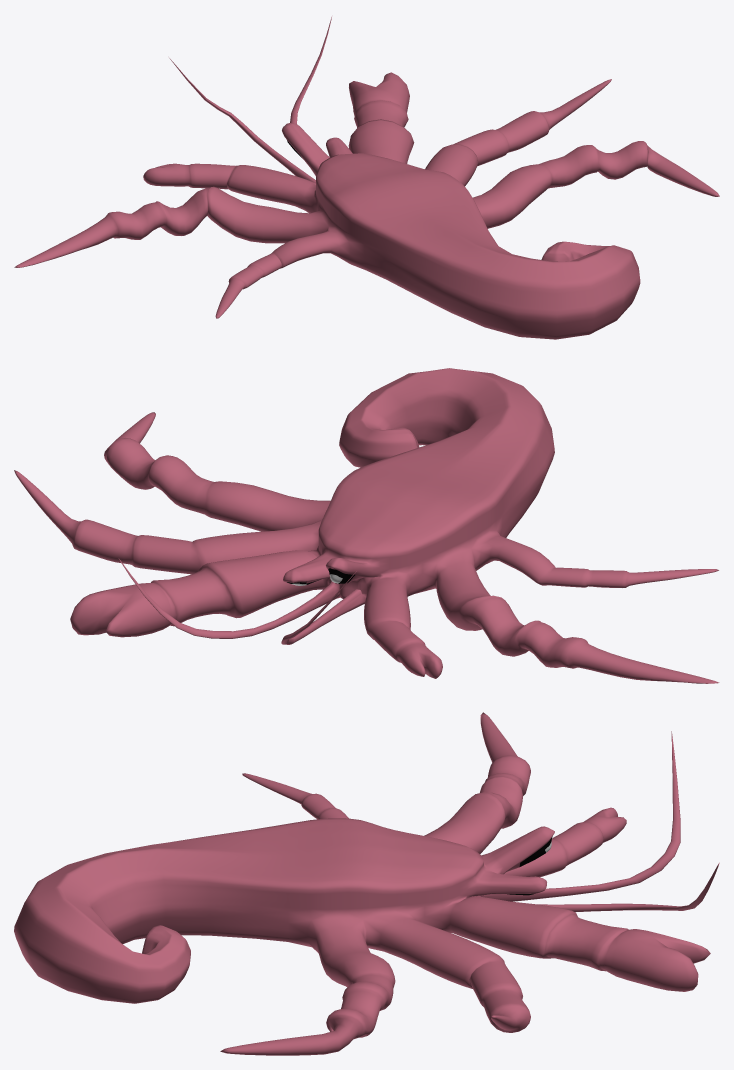
Rendered from bernardSansCoquilles.fbx.
3 views of the same model, one above another, from view 1: azimuth 30°, elevation 25°; view 2: azimuth 150°, elevation 25°; view 3: azimuth 270°, elevation 25° (orthographic). The views are drawn at different scales.
Parts seen in each view (by area): view 1: Box002; view 2: Box002; view 3: Box002.
Boxes of the visible parts, left/top/right/bottom form: Box002: left=14, top=17, right=719, bottom=339; Box002: left=14, top=368, right=719, bottom=683; Box002: left=14, top=712, right=719, bottom=1055.
Bounding box in the file's own units: 8.08 × 1.56 × 6.87.
